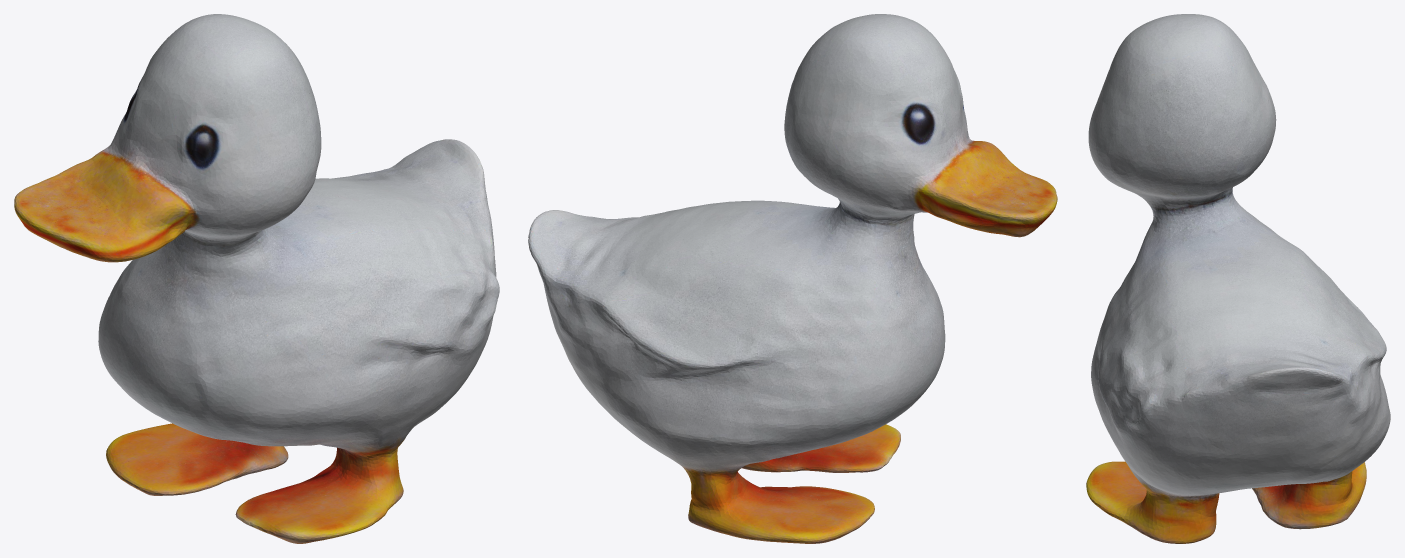
Rendered from duck.fbx.
3 views of the same model, side by side, from view 1: azimuth 30°, elevation 25°; view 2: azimuth 150°, elevation 25°; view 3: azimuth 270°, elevation 25° (orthographic). The views are drawn at different scales.
Visible parts, largest first — view 1: 오리; view 2: 오리; view 3: 오리.
Boxes of the visible parts, box(x1,y1,x2,y2) form: 오리: box(14, 14, 499, 543); 오리: box(528, 14, 1057, 543); 오리: box(1086, 14, 1390, 543).
Size of the model in its own units: 1.95 by 1.9 by 1.15.
1 material, 1 textured.
